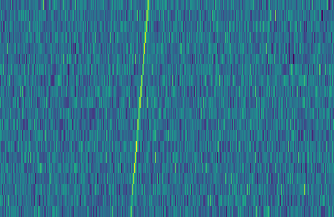signal: (125, 0, 152, 217)
